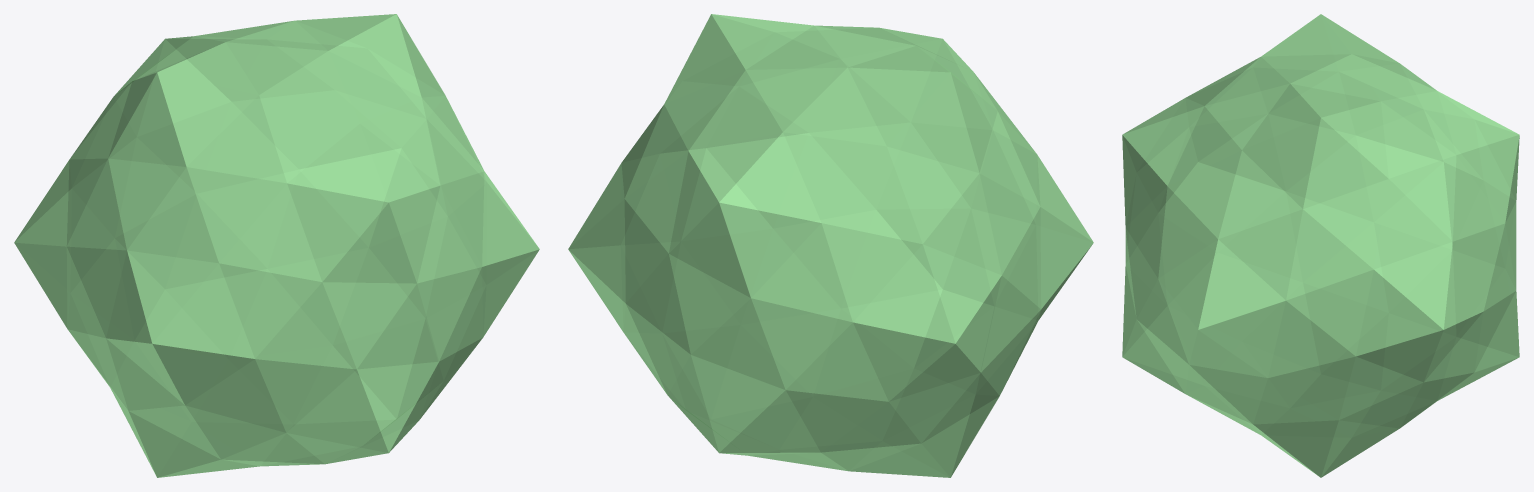
The model's file is 09_Dodecaugmented_Snub_Icosidodecahedron.obj.
3 renders of one model, left to right at view 1: azimuth 30°, elevation 25°; view 2: azimuth 150°, elevation 25°; view 3: azimuth 270°, elevation 25°, orthographic. The views are drawn at different scales.
Size of the model in its own units: 4.26 by 4.26 by 4.26.
